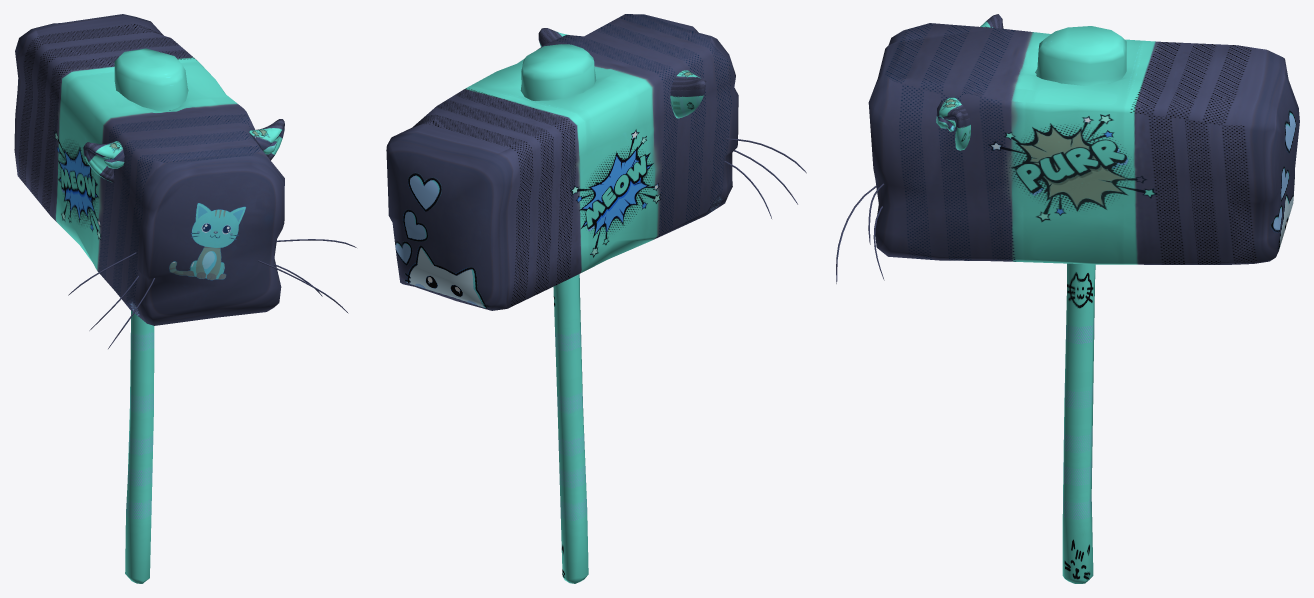
Rendered from CatHammer.fbx.
3 views of the same model, side by side, from view 1: azimuth 30°, elevation 25°; view 2: azimuth 150°, elevation 25°; view 3: azimuth 270°, elevation 25° (orthographic). The views are drawn at different scales.
Parts seen in each view (by area): view 1: Head, Handle, TopNub, CatEarR, CatEarL, WhiskerL, WhiskerR; view 2: Head, Handle, TopNub, CatEarR; view 3: Head, Handle, TopNub, CatEarL.
Part boxes in pixels (bbox=[...]): Head: bbox=[14, 14, 284, 325]; Handle: bbox=[125, 310, 154, 583]; TopNub: bbox=[114, 48, 188, 110]; CatEarR: bbox=[83, 141, 124, 182]; CatEarL: bbox=[249, 119, 284, 160]; WhiskerL: bbox=[258, 239, 356, 313]; WhiskerR: bbox=[68, 252, 155, 348]; Head: bbox=[386, 14, 738, 310]; Handle: bbox=[553, 274, 588, 583]; TopNub: bbox=[520, 44, 596, 100]; CatEarR: bbox=[670, 70, 706, 118]; Head: bbox=[868, 23, 1299, 264]; Handle: bbox=[1062, 263, 1095, 583]; TopNub: bbox=[1036, 26, 1126, 85]; CatEarL: bbox=[936, 97, 970, 150].
Bounding box in the file's own units: 764 × 1376 × 1053.
